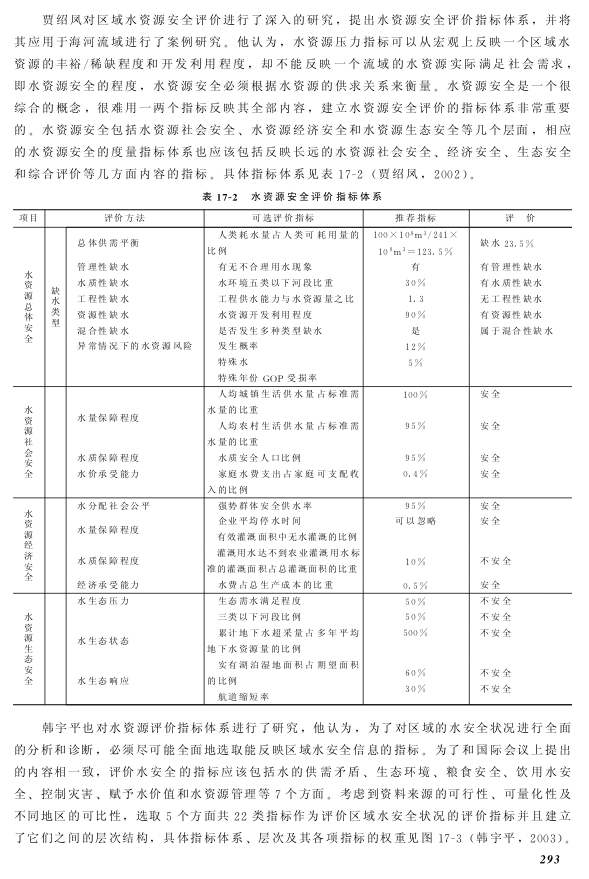table: (13, 209, 571, 706)
